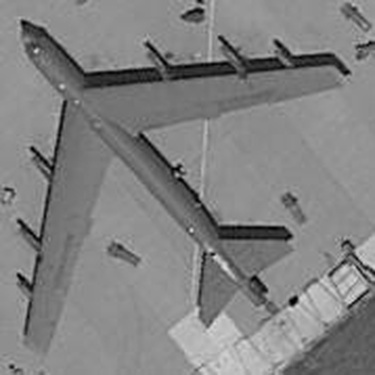airplane: (4, 3, 355, 363)
